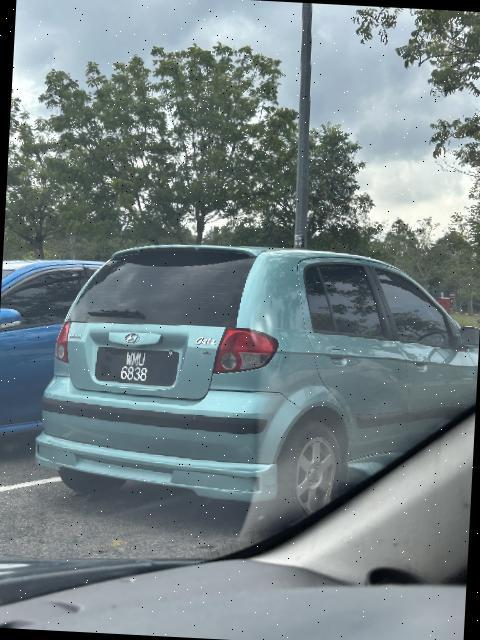License_Plate: (95, 345, 187, 392)
VMU6838: (95, 345, 187, 392)
car: (41, 237, 480, 538)
